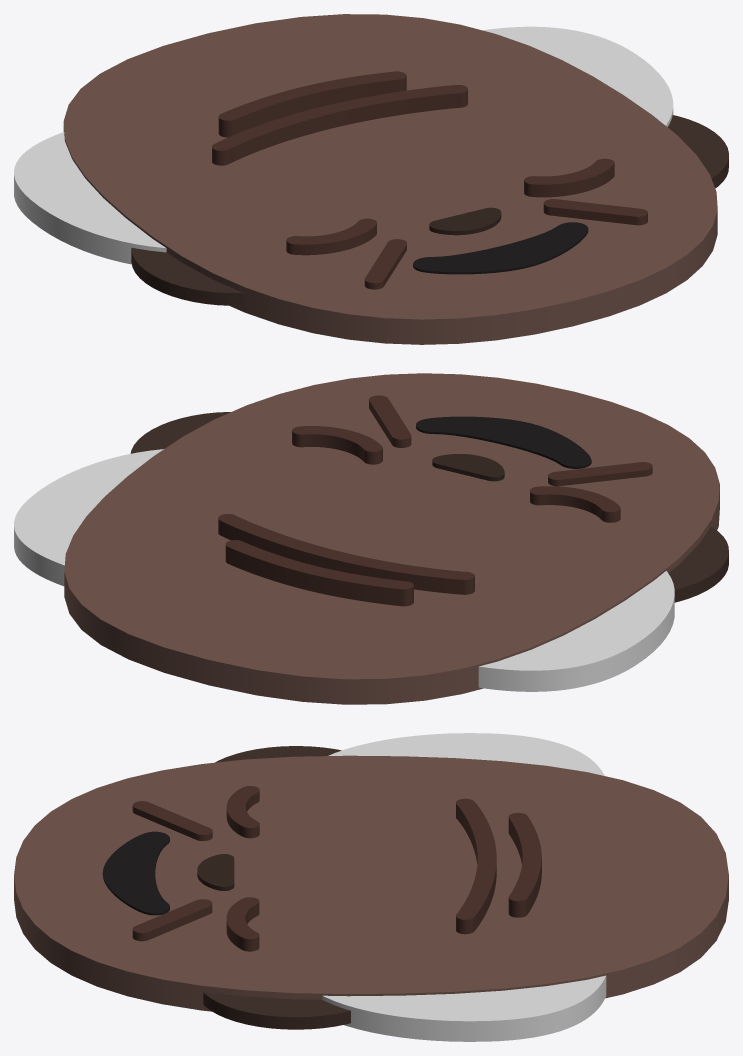
Rendered from emoji_u1f474_1f3ff.glb.
3 renders of one model, top to bottom at view 1: azimuth 30°, elevation 25°; view 2: azimuth 150°, elevation 25°; view 3: azimuth 270°, elevation 25°, orthographic. The views are drawn at different scales.
Visible parts, largest first — view 1: emoji_u1f474_1f3ff; view 2: emoji_u1f474_1f3ff; view 3: emoji_u1f474_1f3ff.
Boxes of the visible parts, left/top/right/bottom form: emoji_u1f474_1f3ff: left=14, top=14, right=728, bottom=344; emoji_u1f474_1f3ff: left=14, top=373, right=728, bottom=704; emoji_u1f474_1f3ff: left=14, top=733, right=728, bottom=1041.
Size of the model in its own units: 0.0299 by 0.0028 by 0.0314.
